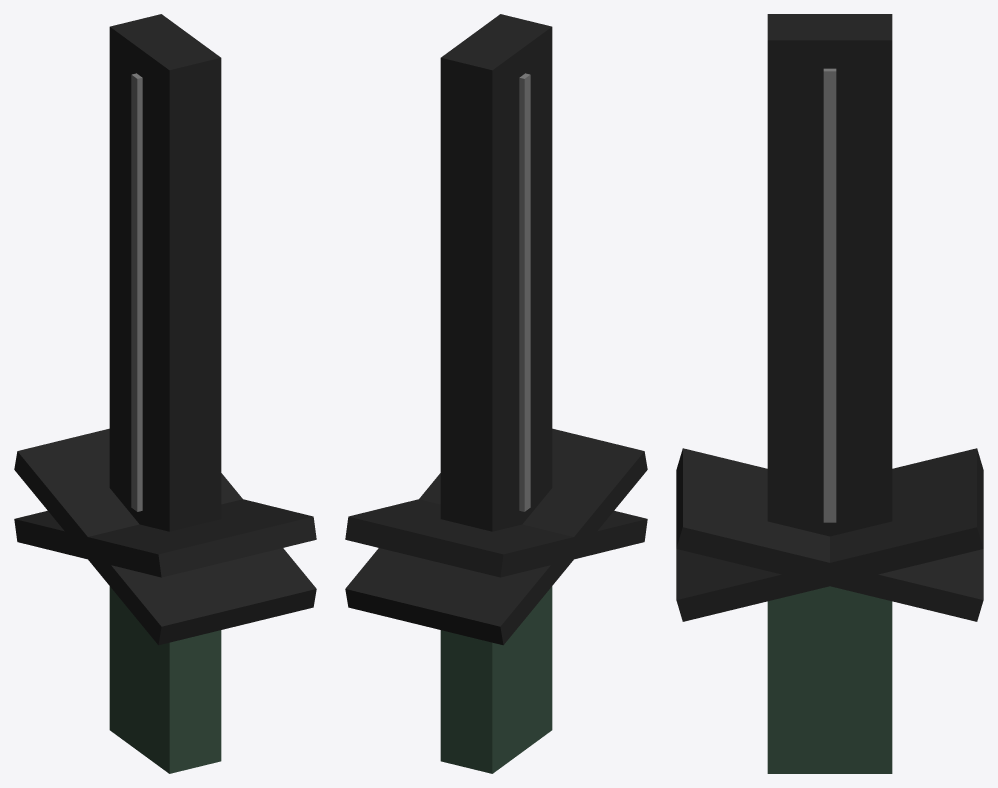
Rendered from ShadowSword.fbx.
3 views of the same model, side by side, from view 1: azimuth 30°, elevation 25°; view 2: azimuth 150°, elevation 25°; view 3: azimuth 270°, elevation 25° (orthographic). The views are drawn at different scales.
Visible parts, largest first — view 1: Cube.001, Cube.002, Cube.005, Cube.006, Cube.004; view 2: Cube.001, Cube.006, Cube.005, Cube.002, Cube.004; view 3: Cube.001, Cube.005, Cube.002, Cube.006, Cube.003.
Part boxes in pixels (x1=…): Cube.001: x1=109, y1=14, x2=221, y2=531; Cube.002: x1=14, y1=428, x2=316, y2=645; Cube.005: x1=109, y1=586, x2=221, y2=773; Cube.006: x1=14, y1=499, x2=316, y2=577; Cube.004: x1=131, y1=73, x2=142, y2=511; Cube.001: x1=440, y1=14, x2=552, y2=531; Cube.006: x1=345, y1=428, x2=647, y2=645; Cube.005: x1=440, y1=586, x2=552, y2=773; Cube.002: x1=345, y1=499, x2=647, y2=577; Cube.004: x1=519, y1=73, x2=530, y2=511; Cube.001: x1=767, y1=14, x2=892, y2=536; Cube.005: x1=767, y1=586, x2=892, y2=773; Cube.002: x1=676, y1=448, x2=983, y2=621; Cube.006: x1=676, y1=448, x2=983, y2=621; Cube.003: x1=823, y1=68, x2=836, y2=522.
Bounding box in the file's own units: 30 × 130 × 49.33.
